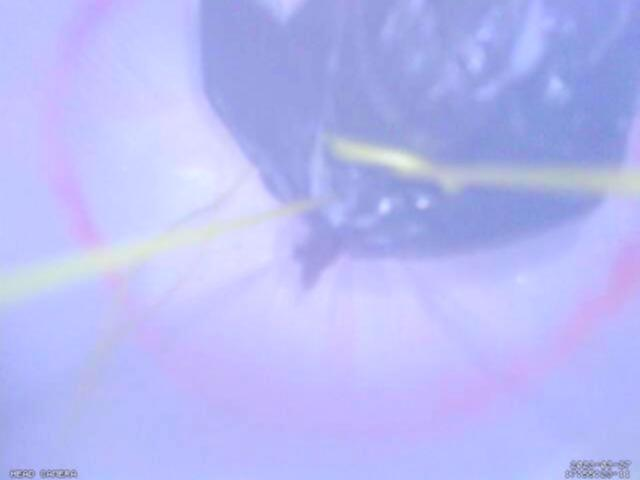head: (35, 0, 640, 436)
